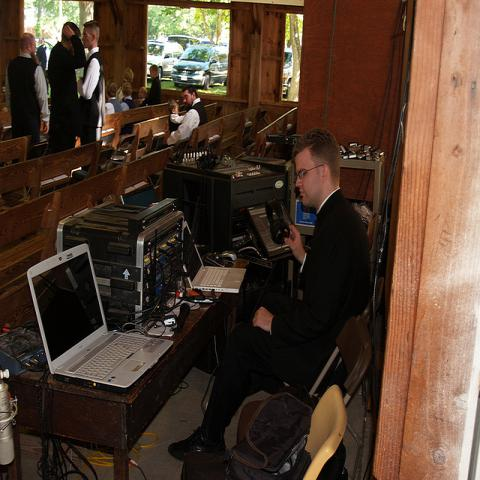car: (171, 44, 229, 90), (147, 41, 184, 81), (282, 48, 294, 98), (167, 34, 200, 51)
